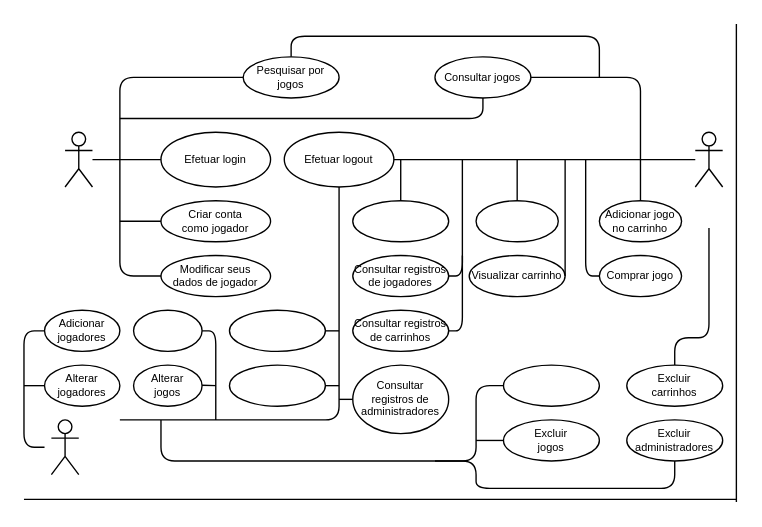
The diagram is 762 pixels wide and 527 high, and some of its shapes have lost their labels. The shapes that lost their labels are listed below. From the top down, each one's box as (x1, y1, x2, y2) in pixels, then its label:
(64, 131, 92, 187): Visitante
(694, 131, 723, 187): Jogador
(351, 199, 449, 242): Consultar registros de jogos
(475, 199, 558, 242): Excluir jogo do carrinho
(132, 309, 202, 351): Adicionar jogos
(228, 309, 325, 351): Adicionar administradores
(228, 364, 325, 406): Alterar administradores
(502, 364, 599, 406): Excluir jogadores
(50, 419, 79, 475): Administrador
